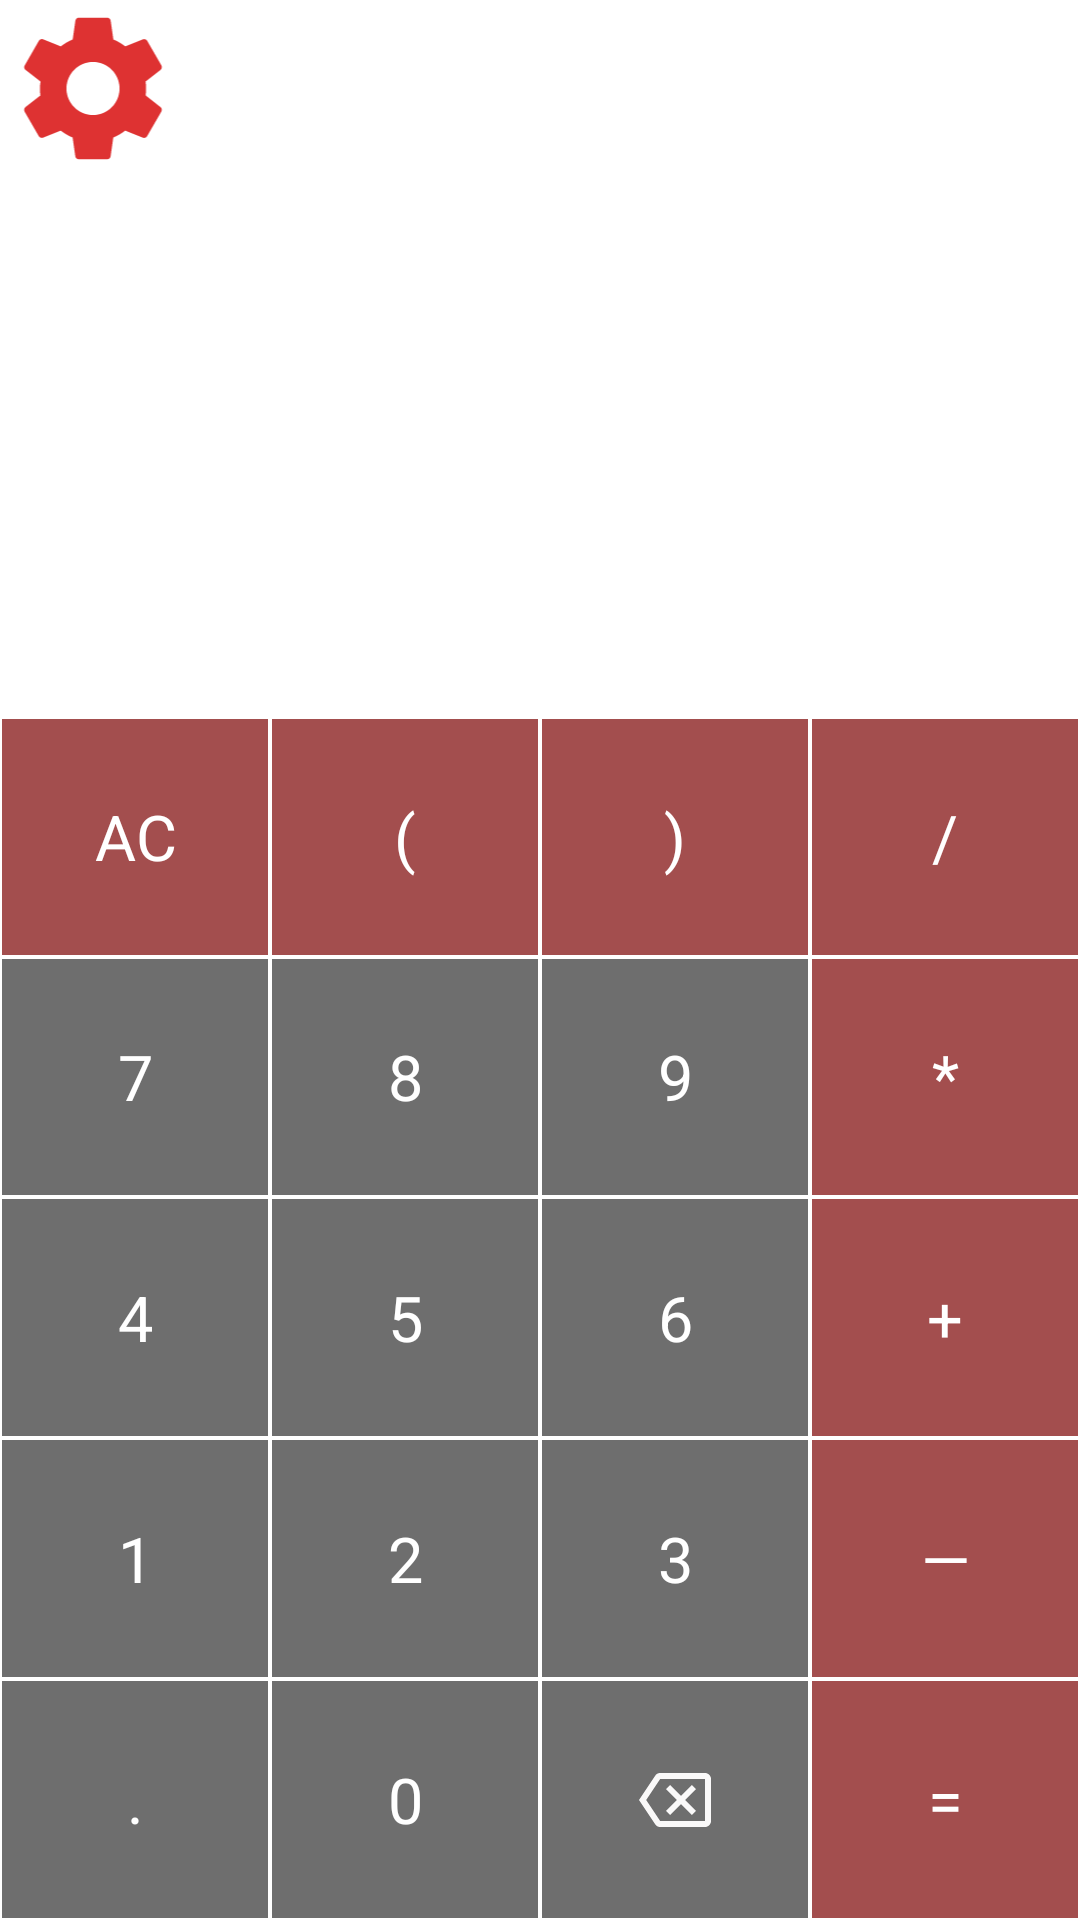

Screen size 1080 x 1920. Icon name, then its box in pixels as bbox(x1, y1, x2, y2):
backspace: bbox(542, 1681, 808, 1918)
settings: bbox(23, 17, 163, 160)
